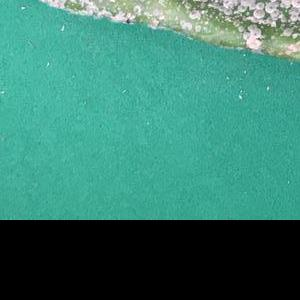Femea: (254, 9, 263, 17), (265, 3, 274, 10), (256, 2, 263, 8)
